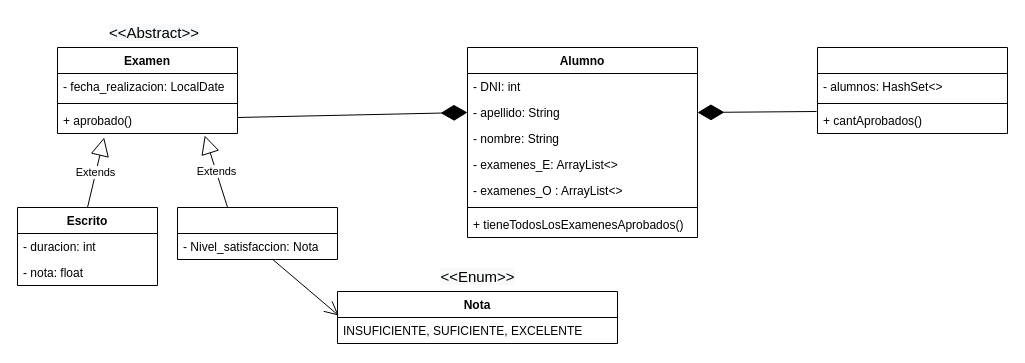
Some shapes in this 1025 by 363 pixel diagram are drawn without their labels. The shapes that lost their labels are listed below. From the top down, each one's box as (x1, y1, x2, y2) in pixels, then its label:
(816, 46, 1008, 134): Sistema
(176, 206, 338, 260): Oral
